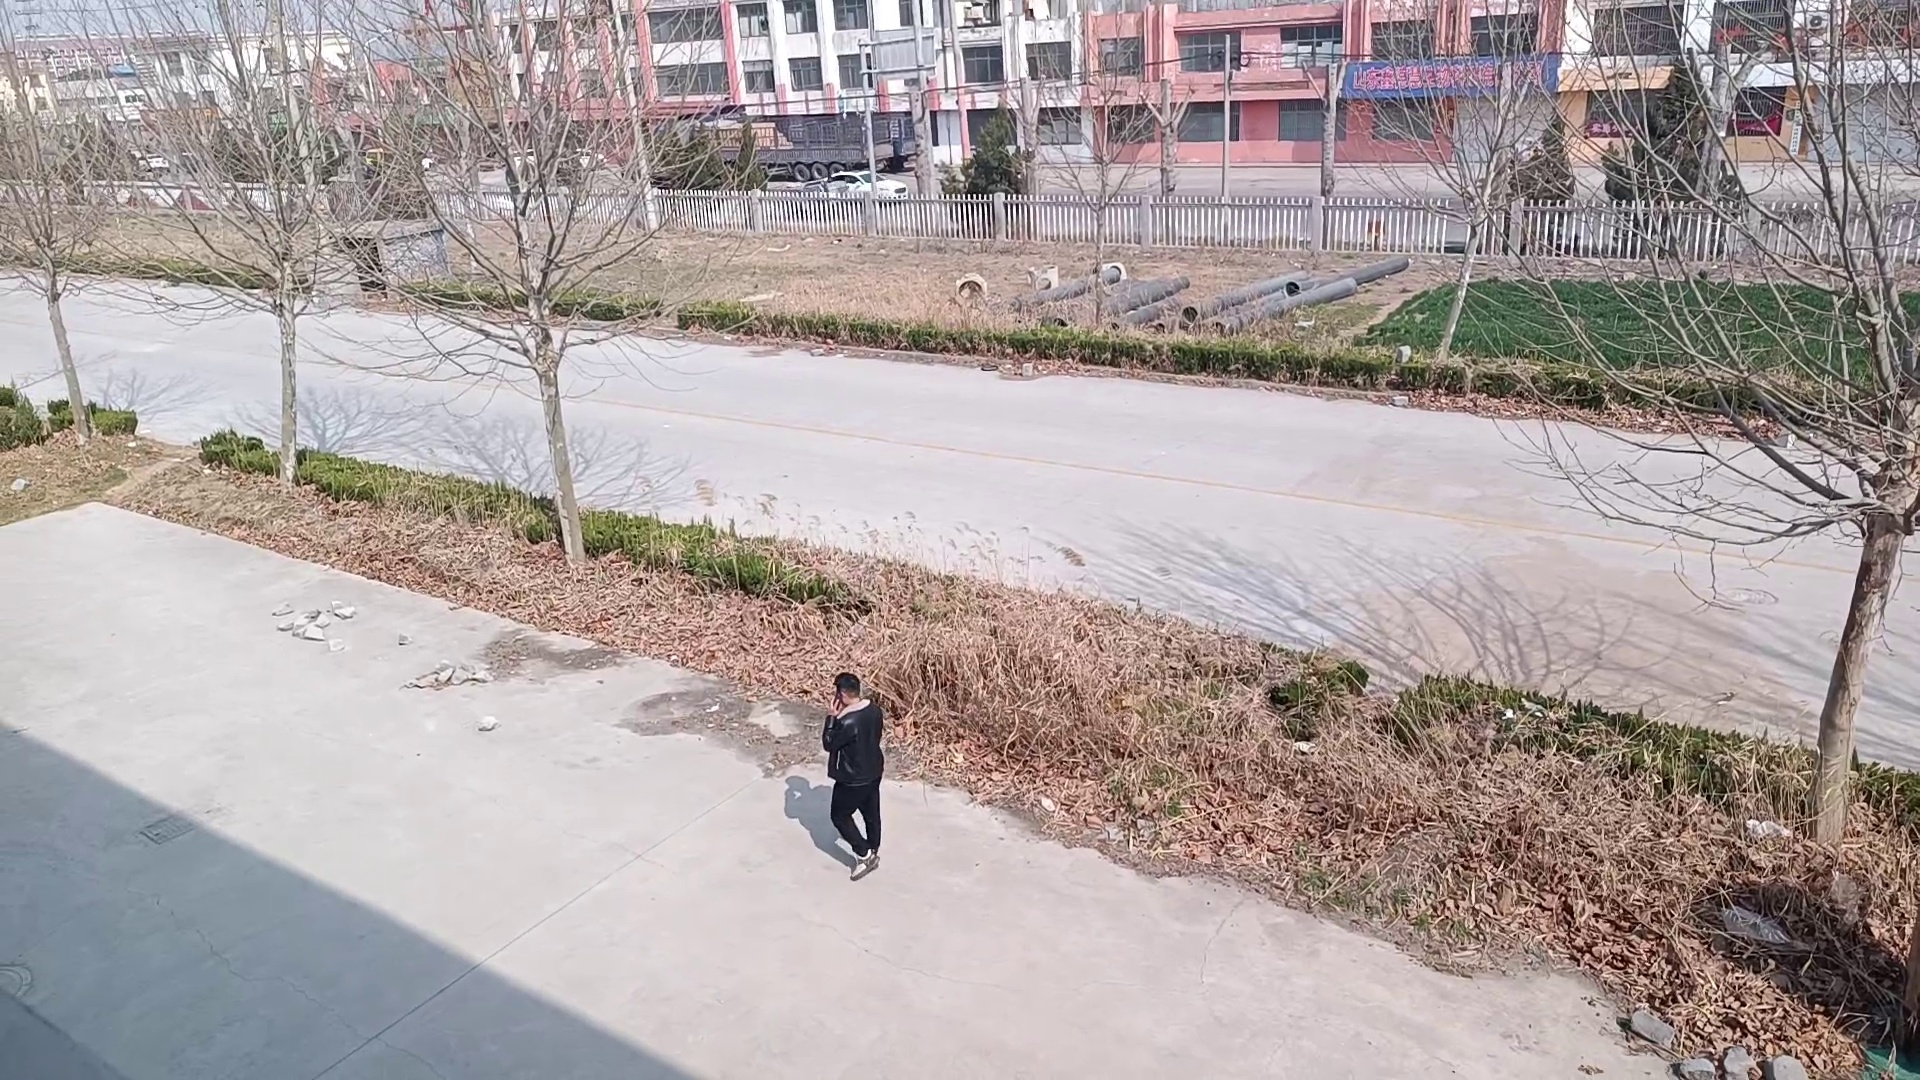phone: (829, 665, 862, 709)
